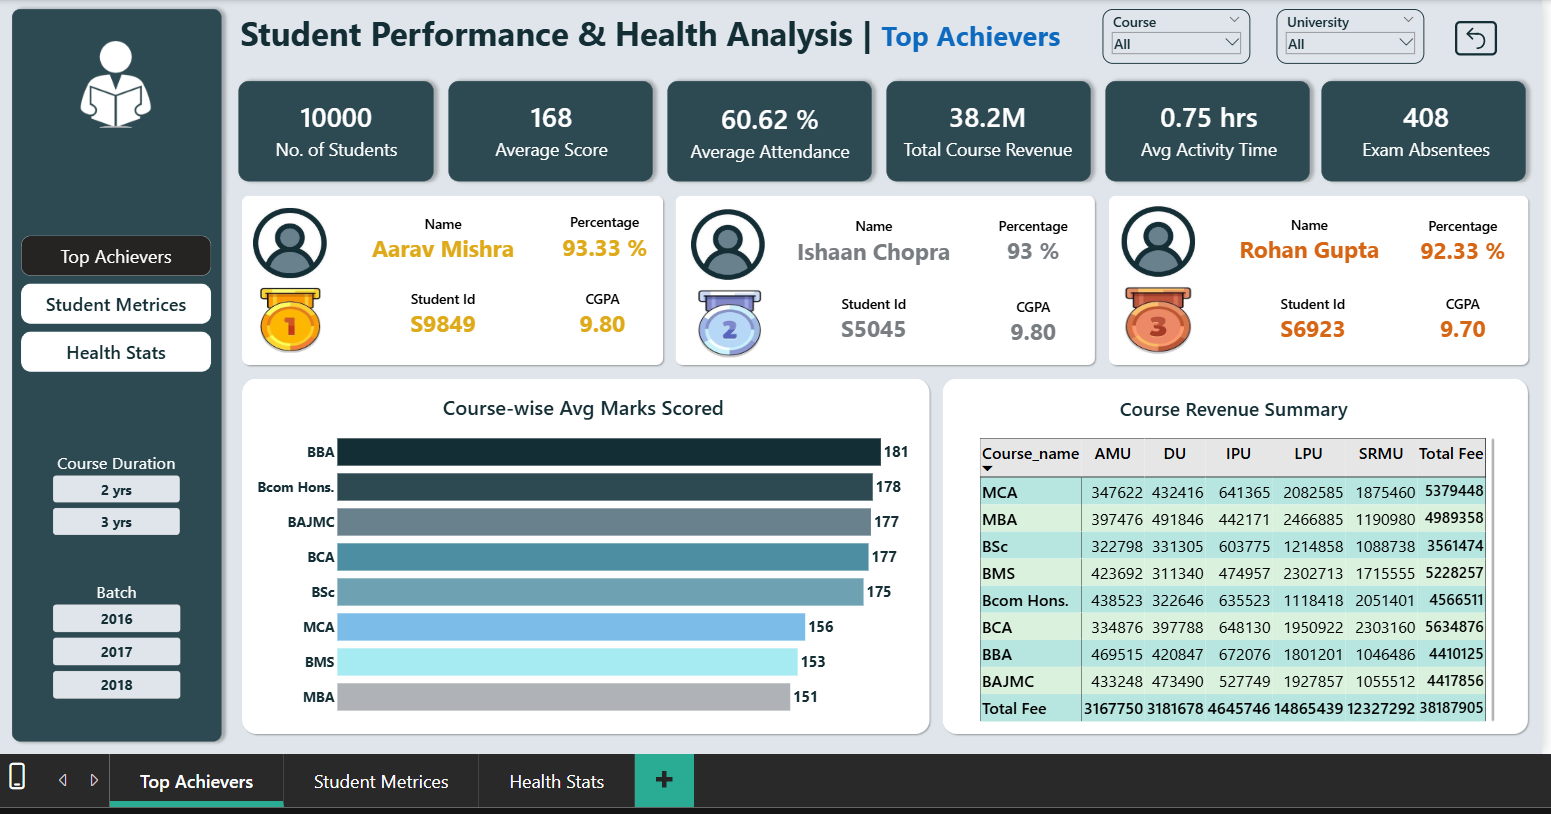

The page's visual inventory and layout, read from the dashboard file:
{"tool":"powerbi","page":{"name":"Top Achievers","canvas":[4500,2200],"ordinal":0},"visuals":[{"type":"shape","box":[34.8,28,611.3,2137.1],"z":0},{"type":"image","box":[34.8,109.3,611.3,268.4],"z":1000},{"type":"shape","box":[697.4,234.2,569.6,292.8],"z":2000},{"type":"shape","box":[1309.6,234.2,596.2,292.8],"z":3000},{"type":"shape","box":[1948.4,234.2,596.2,292.8],"z":4000},{"type":"cardVisual","fields":{"Data":["Measure_table.No. of Students"]},"box":[766.6,260.8,431.2,228.9],"z":5000},{"type":"cardVisual","fields":{"Data":["Measure_table.Average Score"]},"box":[1405.4,260.8,409.9,228.9],"z":6000},{"type":"cardVisual","fields":{"Data":["Measure_table.Average Attendance"]},"box":[1990.9,260.8,511,239.6],"z":7000},{"type":"advancedSlicerVisual","title":"Batch","fields":{"Values":["Date Table.Year"]},"box":[149.1,1692.8,383.3,351.3],"z":8000},{"type":"shape","box":[1953.7,553.6,1261.6,532.3],"z":9000},{"type":"shape","box":[3215.3,553.6,1261.6,532.3],"z":10000},{"type":"shape","box":[686.7,553.6,1267,532.3],"z":11000},{"type":"image","box":[745.3,830.4,207.6,202.3],"z":12000},{"type":"image","box":[2022.9,841.1,207.6,207.6],"z":13000},{"type":"image","box":[3273.9,830.4,207.6,207.6],"z":14000},{"type":"image","box":[718.7,585.6,255.5,244.9],"z":15000},{"type":"image","box":[1996.3,590.9,255.5,244.9],"z":16000},{"type":"image","box":[3252.6,580.2,255.5,244.9],"z":17000},{"type":"cardVisual","fields":{"Data":["Measure_table.Topper Name"]},"box":[974.2,601.5,633.5,191.6],"z":18000},{"type":"cardVisual","fields":{"Data":["Measure_table.Topper %"]},"box":[1613,601.5,298.1,191.6],"z":19000},{"type":"cardVisual","fields":{"Data":["Measure_table.Topper id"]},"box":[974.2,819.8,633.5,191.6],"z":20000},{"type":"cardVisual","fields":{"Data":["Measure_table.Topper CGPA"]},"box":[1607.7,819.8,303.4,191.6],"z":21000},{"type":"cardVisual","fields":{"Data":["Measure_table.Runnerup name"]},"box":[2247,608.3,608.3,190.7],"z":22000},{"type":"cardVisual","fields":{"Data":["Measure_table.Runnerup percentage"]},"box":[2855.3,603.7,322.3,195.2],"z":23000},{"type":"cardVisual","fields":{"Data":["Measure_table.Runnerup CGPA"]},"box":[2855.3,839.8,322.3,195.2],"z":24000},{"type":"cardVisual","fields":{"Data":["Measure_table.Runnerup id"]},"box":[2247,835.2,608.3,186.1],"z":25000},{"type":"cardVisual","fields":{"Data":["Measure_table.3rd_stud name"]},"box":[3522.5,603.7,594.7,190.7],"z":26000},{"type":"cardVisual","fields":{"Data":["Measure_table.3rd_stud %"]},"box":[4117.2,603.7,299.6,195.2],"z":27000},{"type":"cardVisual","fields":{"Data":["Measure_table.3rd_stud id"]},"box":[3545.2,835.2,572,186.1],"z":28000},{"type":"cardVisual","fields":{"Data":["Measure_table.3rd_stud CGPA"]},"box":[4117.2,835.2,299.6,186.1],"z":29000},{"type":"shape","box":[686.7,1086,2044.2,1075.3],"z":30000},{"type":"clusteredBarChart","title":"Course-wise Avg Marks Scored","fields":{"Category":["courses.Course_name"],"Y":["Avg(student_scores.Overall_scores)"]},"box":[745.3,1144.5,1916.4,974.2],"z":31000},{"type":"advancedSlicerVisual","title":"Course Duration","fields":{"Values":["courses.Course_duration"]},"box":[149.8,1316.4,381.3,249.7],"z":32000},{"type":"shape","box":[2730.9,1086,1746.1,1075.3],"z":33000},{"type":"pivotTable","title":"Course","fields":{"Rows":["courses.Course_name"],"Values":["Sum(courses.Course_fee)"],"Columns":["courses.University_name"]},"box":[2853.3,1272.3,1511.8,835.8],"z":34000},{"type":"textbox","title":"STUDENT PERFORMANCE & WELLNESS TRACKER","box":[697.4,26.6,2427.5,207.6],"z":35000},{"type":"slicer","title":"Motivation Level","fields":{"Values":["courses.Course_name"]},"box":[3160.9,24.8,432.4,159],"z":36000},{"type":"slicer","title":"Motivation Level","fields":{"Values":["courses.University_name"]},"box":[3638,24.8,432.4,159],"z":37000},{"type":"shape","box":[2587.2,234.2,596.2,292.8],"z":38000},{"type":"shape","box":[3226,234.2,596.2,292.8],"z":39000},{"type":"shape","box":[3858,234.2,596.2,292.8],"z":40000},{"type":"cardVisual","fields":{"Data":["Measure_table.Total Course Revenue"]},"box":[2608.5,260.8,548.3,228.9],"z":41000},{"type":"cardVisual","fields":{"Data":["Measure_table.Avg Activity hrs"]},"box":[3289.8,260.8,473.8,228.9],"z":42000},{"type":"cardVisual","fields":{"Data":["Measure_table.Exam Absentees"]},"box":[3955.3,260.8,409.9,228.9],"z":43000},{"type":"textbox","box":[3183.4,1144.5,835.8,122.4],"z":44000},{"type":"pageNavigator","box":[61.1,688.3,555.1,399.7],"z":45000},{"type":"actionButton","box":[4100.2,54.7,377.7,99.4],"z":46001}]}

Visuals, with their boxes on the page's 4500x2200 design canvas (x1, y1, x2, y2). These are canvas units, not pixel positions in the 1551x814 screenshot, which may show the page scaled, cropped or inside an application window:
shape: 35, 28, 646, 2165
image: 35, 109, 646, 378
shape: 697, 234, 1267, 527
shape: 1310, 234, 1906, 527
shape: 1948, 234, 2545, 527
cardVisual - Measure_table.No. of Students: 767, 261, 1198, 490
cardVisual - Measure_table.Average Score: 1405, 261, 1815, 490
cardVisual - Measure_table.Average Attendance: 1991, 261, 2502, 500
"Batch" advancedSlicerVisual: 149, 1693, 532, 2044
shape: 1954, 554, 3215, 1086
shape: 3215, 554, 4477, 1086
shape: 687, 554, 1954, 1086
image: 745, 830, 953, 1033
image: 2023, 841, 2230, 1049
image: 3274, 830, 3482, 1038
image: 719, 586, 974, 830
image: 1996, 591, 2252, 836
image: 3253, 580, 3508, 825
cardVisual - Measure_table.Topper Name: 974, 602, 1608, 793
cardVisual - Measure_table.Topper %: 1613, 602, 1911, 793
cardVisual - Measure_table.Topper id: 974, 820, 1608, 1011
cardVisual - Measure_table.Topper CGPA: 1608, 820, 1911, 1011
cardVisual - Measure_table.Runnerup name: 2247, 608, 2855, 799
cardVisual - Measure_table.Runnerup percentage: 2855, 604, 3178, 799
cardVisual - Measure_table.Runnerup CGPA: 2855, 840, 3178, 1035
cardVisual - Measure_table.Runnerup id: 2247, 835, 2855, 1021
cardVisual - Measure_table.3rd_stud name: 3522, 604, 4117, 794
cardVisual - Measure_table.3rd_stud %: 4117, 604, 4417, 799
cardVisual - Measure_table.3rd_stud id: 3545, 835, 4117, 1021
cardVisual - Measure_table.3rd_stud CGPA: 4117, 835, 4417, 1021
shape: 687, 1086, 2731, 2161
"Course-wise Avg Marks Scored" clusteredBarChart: 745, 1144, 2662, 2119
"Course Duration" advancedSlicerVisual: 150, 1316, 531, 1566
shape: 2731, 1086, 4477, 2161
"Course" pivotTable: 2853, 1272, 4365, 2108
"STUDENT PERFORMANCE & WELLNESS TRACKER" textbox: 697, 27, 3125, 234
"Motivation Level" slicer: 3161, 25, 3593, 184
"Motivation Level" slicer: 3638, 25, 4070, 184
shape: 2587, 234, 3183, 527
shape: 3226, 234, 3822, 527
shape: 3858, 234, 4454, 527
cardVisual - Measure_table.Total Course Revenue: 2608, 261, 3157, 490
cardVisual - Measure_table.Avg Activity hrs: 3290, 261, 3764, 490
cardVisual - Measure_table.Exam Absentees: 3955, 261, 4365, 490
textbox: 3183, 1144, 4019, 1267
pageNavigator: 61, 688, 616, 1088
actionButton: 4100, 55, 4478, 154
